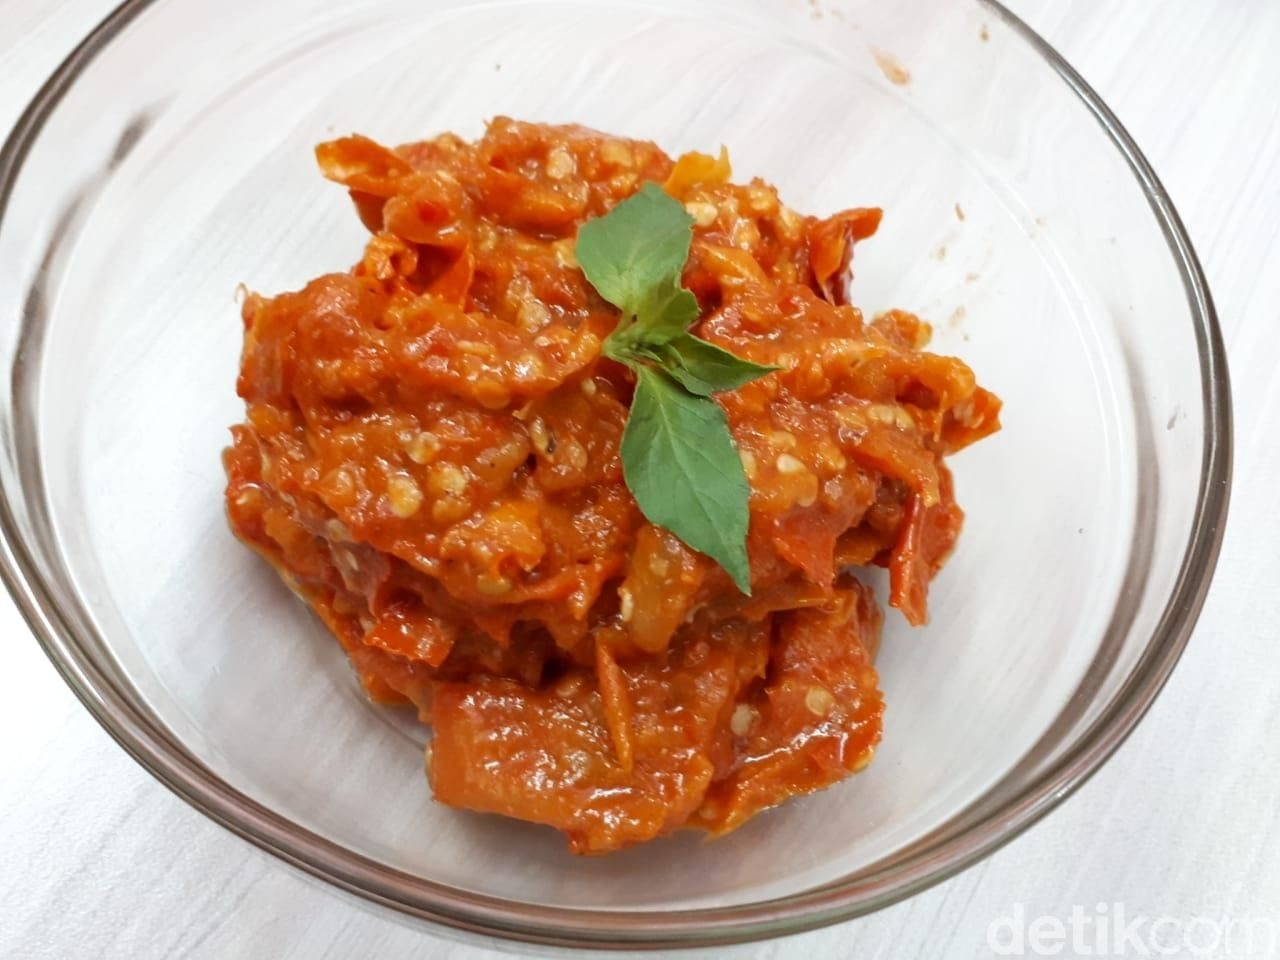sambal: (218, 112, 1002, 860)
